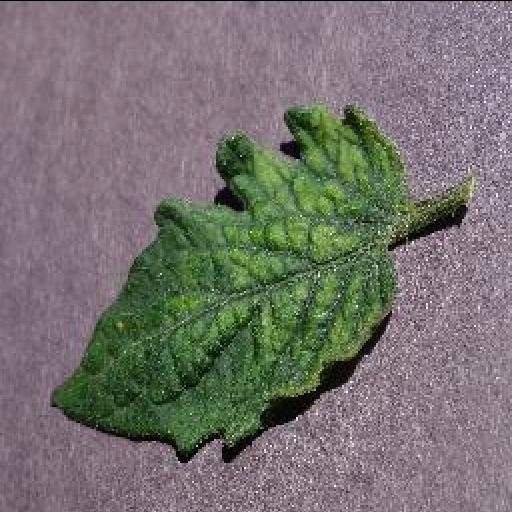Mosaic Virus: (46, 99, 406, 451)
